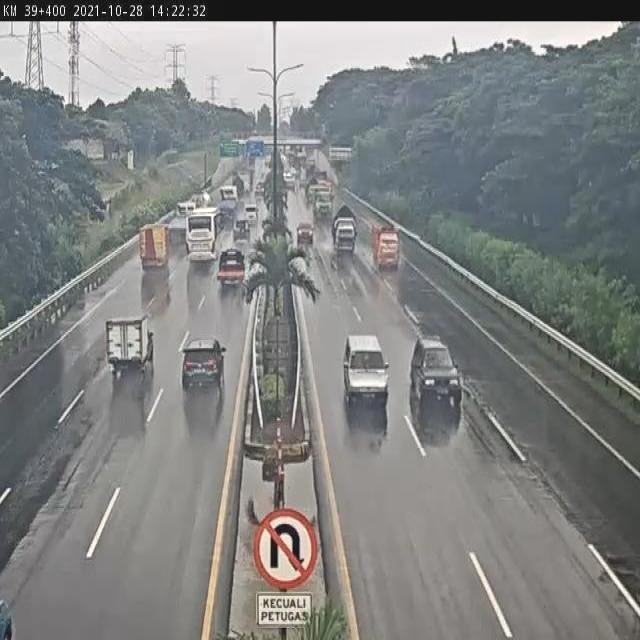Bus: (185, 208, 224, 263)
Car: (342, 332, 392, 408), (410, 336, 464, 406), (180, 336, 228, 394), (243, 201, 260, 229), (231, 221, 251, 244), (296, 221, 314, 245)
Truck: (105, 316, 156, 374), (139, 219, 172, 271), (331, 203, 358, 259), (371, 223, 401, 270), (216, 248, 246, 290), (166, 200, 196, 242), (211, 185, 238, 228), (309, 182, 333, 219)
